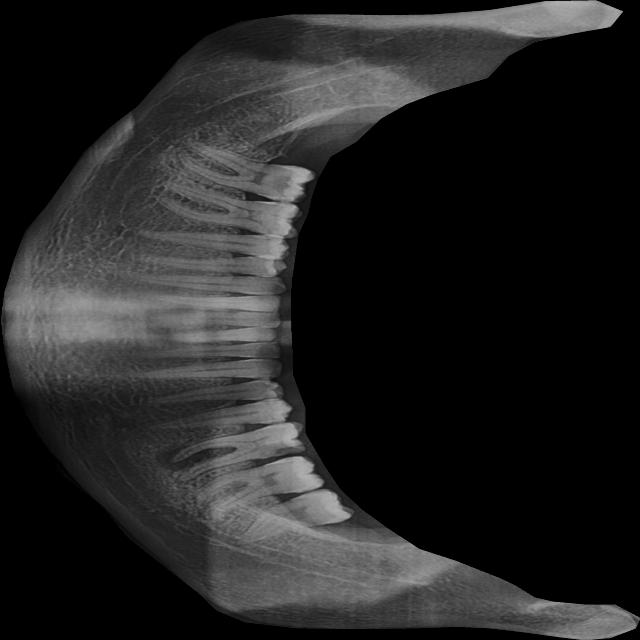mandibula: (0, 0, 640, 640)
